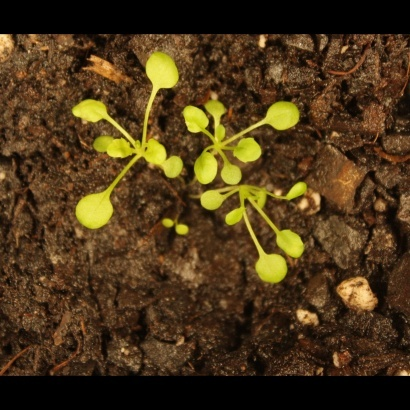leaf: (70, 184, 123, 241), (63, 89, 124, 126), (141, 47, 186, 92), (248, 251, 293, 289), (261, 99, 305, 134), (274, 226, 310, 262), (106, 133, 135, 172), (193, 146, 220, 187), (233, 136, 265, 167), (182, 106, 213, 137), (202, 95, 234, 121), (90, 131, 117, 160), (218, 161, 245, 189), (281, 179, 310, 205), (143, 141, 170, 167), (199, 189, 225, 214), (222, 203, 246, 230), (249, 187, 273, 213), (164, 156, 187, 179), (176, 221, 199, 244), (152, 216, 175, 239), (208, 121, 231, 144)
